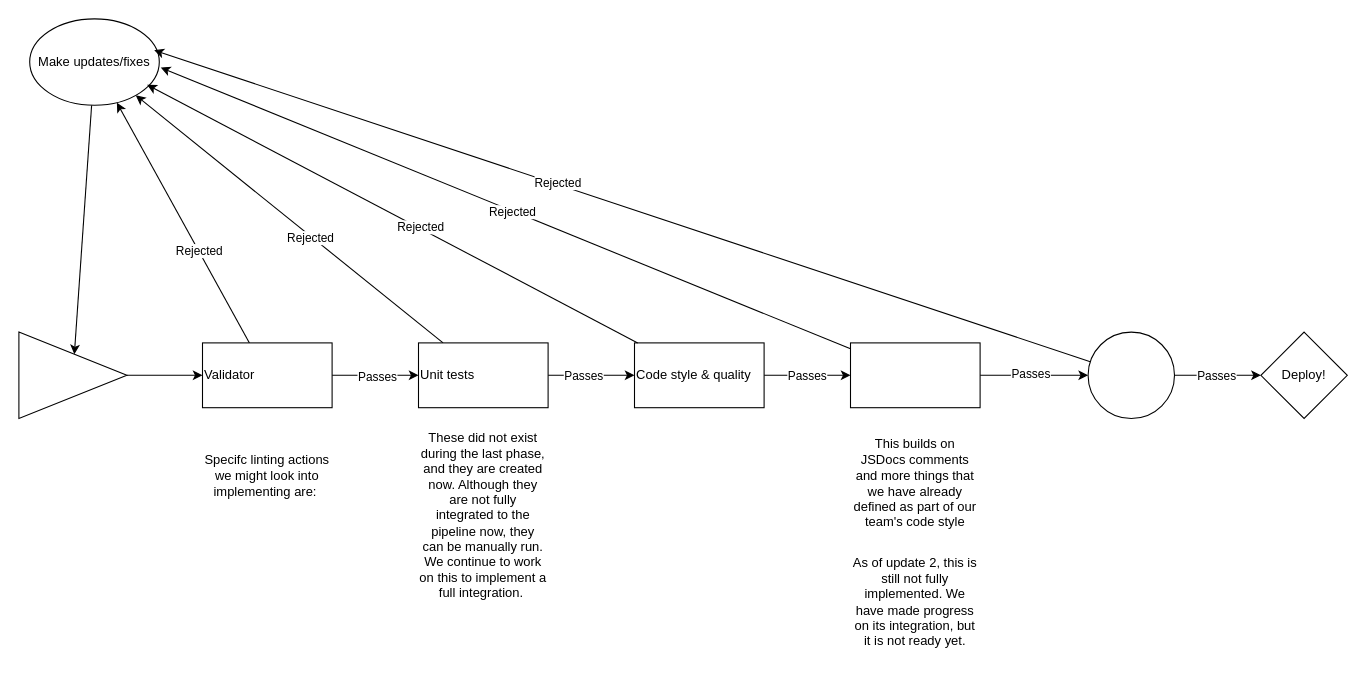
The diagram is 1366 pixels wide and 686 high, and some of its shapes have lost their labels. The shapes that lost their labels are listed below. From the top down, each one's box as (x1, y1, x2, y2) in pixels, then its label:
(18, 331, 127, 418): Start: Pull request opened
(849, 342, 980, 408): Automatic documentation generation
(1087, 331, 1174, 418): Human code review
